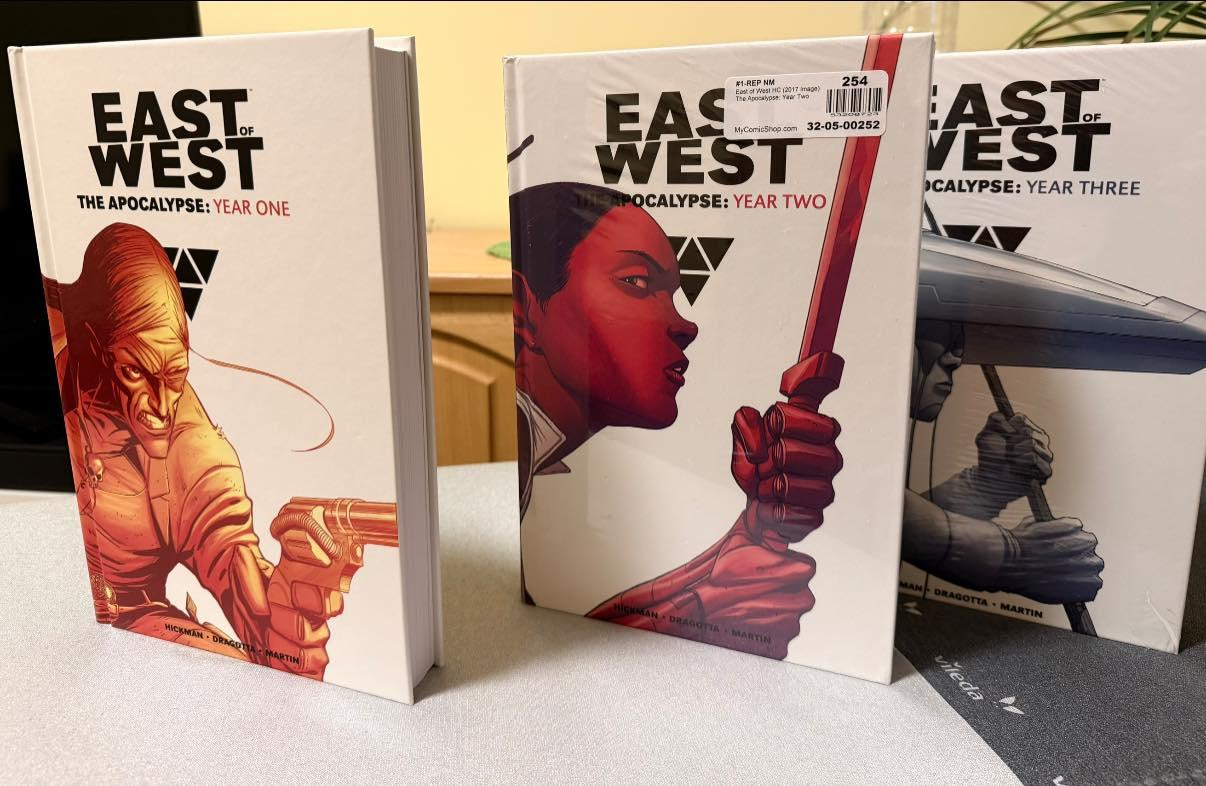comic: (10, 32, 426, 736), (505, 35, 931, 681)
